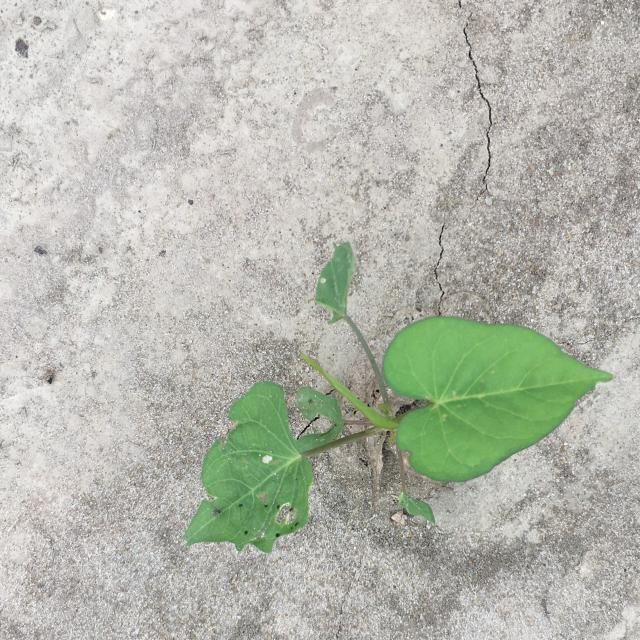MorningGlory: (182, 240, 614, 554)
